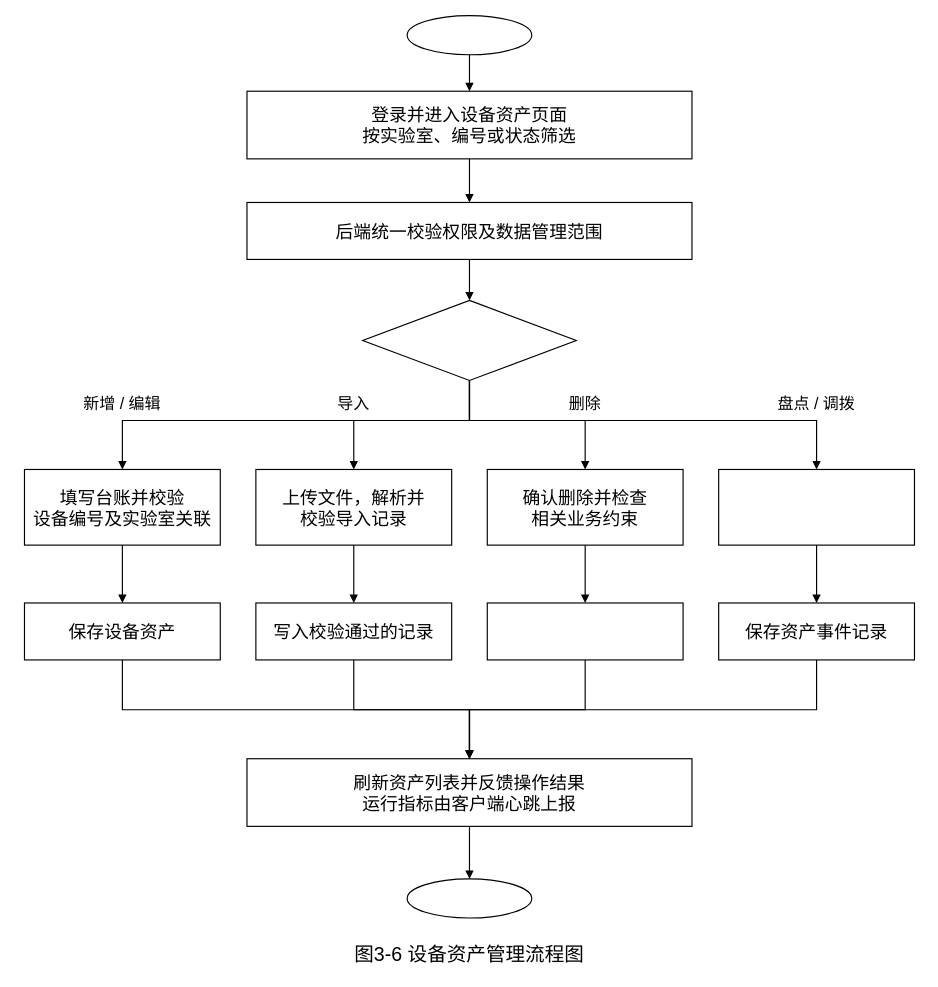
This 938x987 diagram has some shape labels left out. The shapes that lost their labels are listed below. From the top down, each one's centre as x and y in pixels, then its label:
point (469, 35): 开始
point (469, 340): 选择管理操作
point (816, 506): 填写盘点结果或 设备调拨目标
point (584, 631): 更新逻辑删除标记
point (469, 898): 结束
